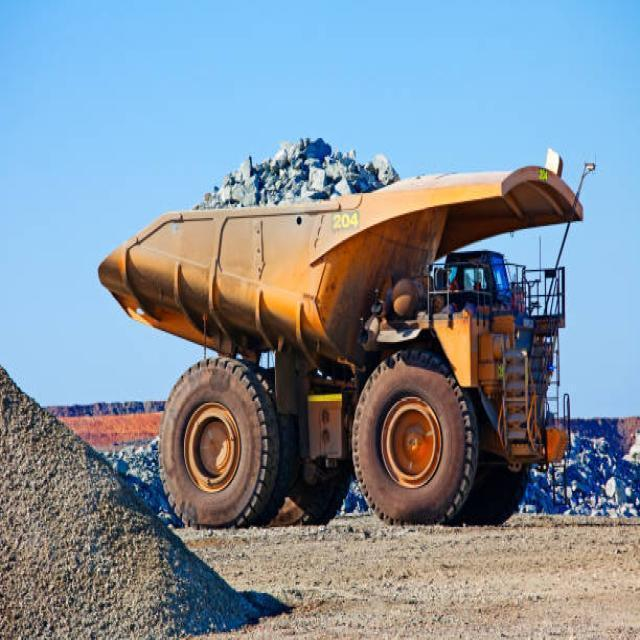uncovered: (83, 135, 583, 524)
